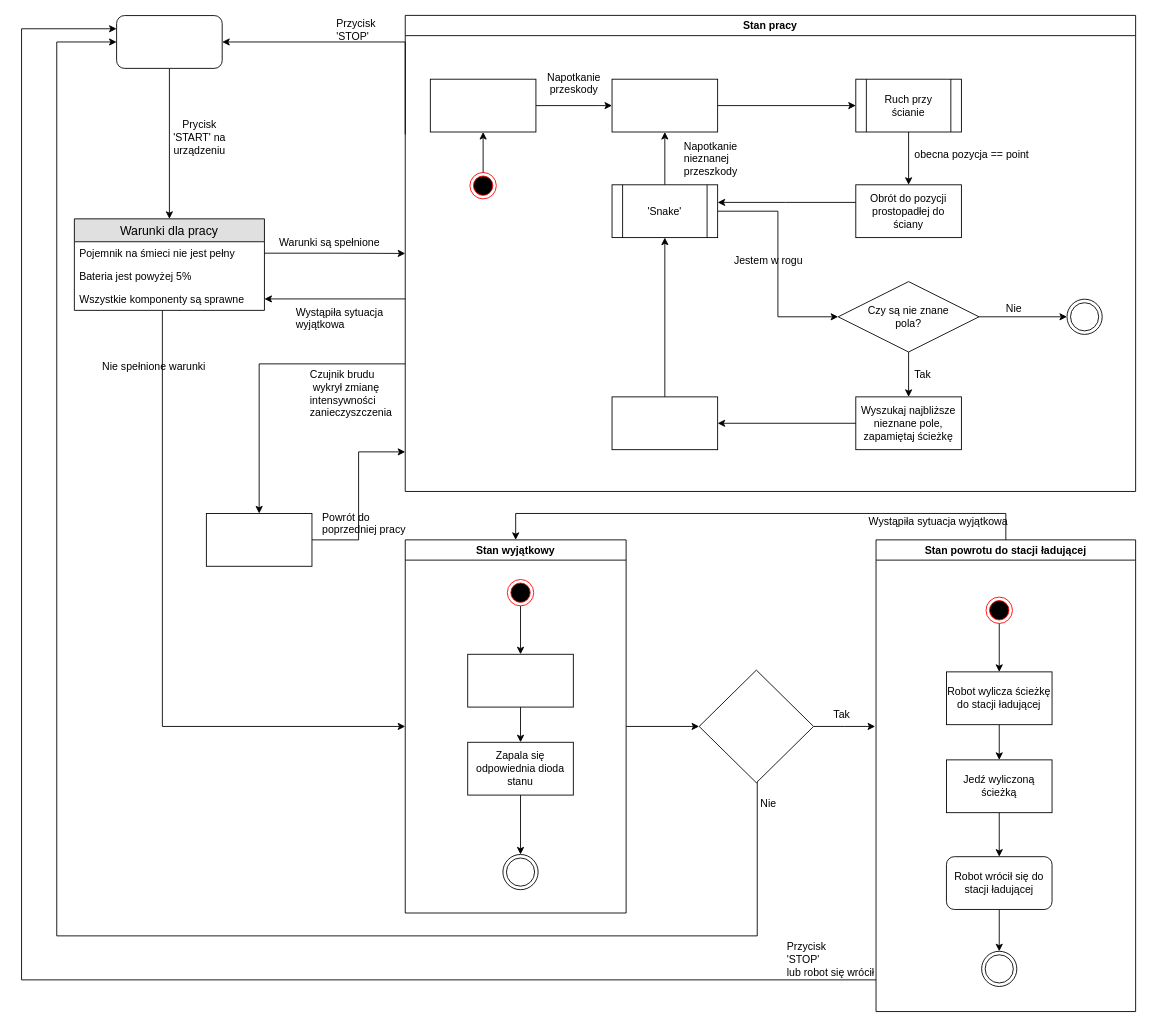
Some shapes in this 1151 by 1027 pixel diagram are drawn without their labels. Here are the shapes that lost their labels. From the top down, the centre of each, then its label:
(169,41): Urządzenie wyłączone
(482,105): Jedź do przodu w losowym kierunky
(664,105): point := obecna pozyja
(664,423): Dojedź wyliczoną ścieżką
(258,539): Zmiana prędkości na podstawie danych czujnika
(520,680): Urządzenie sygnalizuje wyjątek wydając dziwięk
(756,726): Czy urządzenie jest w stanie wrócić na stację?
